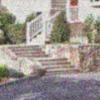stairs: (6, 43, 53, 60)
